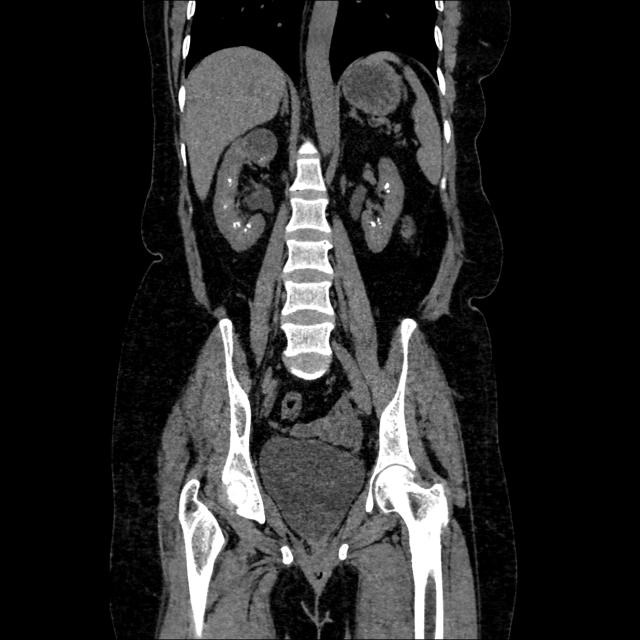kidney: (215, 134, 270, 248), (360, 163, 396, 249)
stone: (233, 223, 240, 227), (385, 183, 389, 189), (371, 222, 376, 226), (224, 204, 227, 209), (228, 178, 231, 182), (244, 229, 247, 232), (248, 225, 250, 228), (386, 191, 389, 193)
